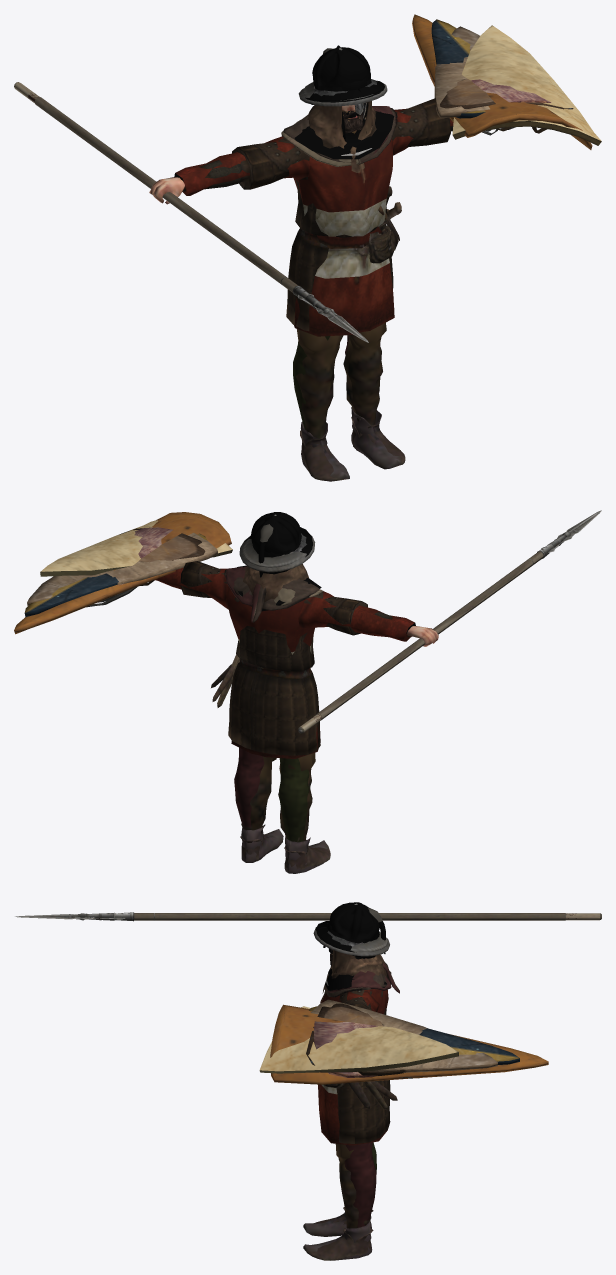
The model's file is footman.obj.
The picture shows the model from 3 angles, top to bottom: view 1: azimuth 30°, elevation 25°; view 2: azimuth 150°, elevation 25°; view 3: azimuth 270°, elevation 25°; orthographic projection. The views are drawn at different scales.
Parts seen in each view (by area): view 1: body_01, body_06, hose_02, Shield_07, body_03, Shield_06, Spear_03, Helm_G_1, Helm_G_5, shoes_02, Helm_G_8, Shield_04 (+9 smaller); view 2: body_06, body_01, hose_01, Shield_06, Shield_07, Spear_03, Shield_04, Helm_G_1, hose_02, shoes_02, Helm_G_5, Shield_01 (+8 smaller); view 3: Shield_07, Shield_06, Spear_03, body_06, Shield_04, hose_01, body_01, Helm_G_5, shoes_02, Shield_01, shoes_01, Helm_G_1 (+7 smaller).
Part boxes in pixels (x1,y1,x2,y2): body_01: [174, 108, 453, 336]; body_06: [182, 98, 453, 331]; hose_02: [296, 322, 386, 446]; Shield_07: [452, 25, 601, 145]; body_03: [303, 198, 389, 278]; Shield_06: [412, 14, 592, 149]; Spear_03: [34, 97, 342, 322]; Helm_G_1: [283, 48, 397, 164]; Helm_G_5: [305, 45, 384, 110]; shoes_02: [300, 407, 401, 481]; Helm_G_8: [307, 101, 376, 172]; Shield_04: [434, 26, 489, 118]; body_06: [180, 561, 410, 755]; body_01: [154, 567, 415, 758]; hose_01: [234, 747, 309, 842]; Shield_06: [14, 512, 231, 634]; Shield_07: [40, 520, 232, 585]; Spear_03: [316, 524, 579, 720]; Shield_04: [27, 532, 218, 605]; Helm_G_1: [224, 524, 321, 622]; hose_02: [241, 753, 315, 849]; shoes_02: [241, 824, 328, 873]; Helm_G_5: [245, 512, 312, 557]; Shield_01: [24, 533, 207, 616]; Shield_07: [259, 1006, 458, 1075]; Shield_06: [270, 1004, 548, 1084]; Spear_03: [57, 912, 565, 921]; body_06: [336, 989, 390, 1143]; Shield_04: [310, 999, 497, 1072]; hose_01: [344, 1142, 376, 1227]; body_01: [318, 989, 388, 1145]; Helm_G_5: [316, 902, 379, 952]; shoes_02: [303, 1212, 372, 1260]; Shield_01: [309, 1006, 519, 1078]; shoes_01: [306, 1207, 373, 1260]; Helm_G_1: [324, 908, 399, 997].
Size of the model in its own units: 1.97 by 1.88 by 2.93.
